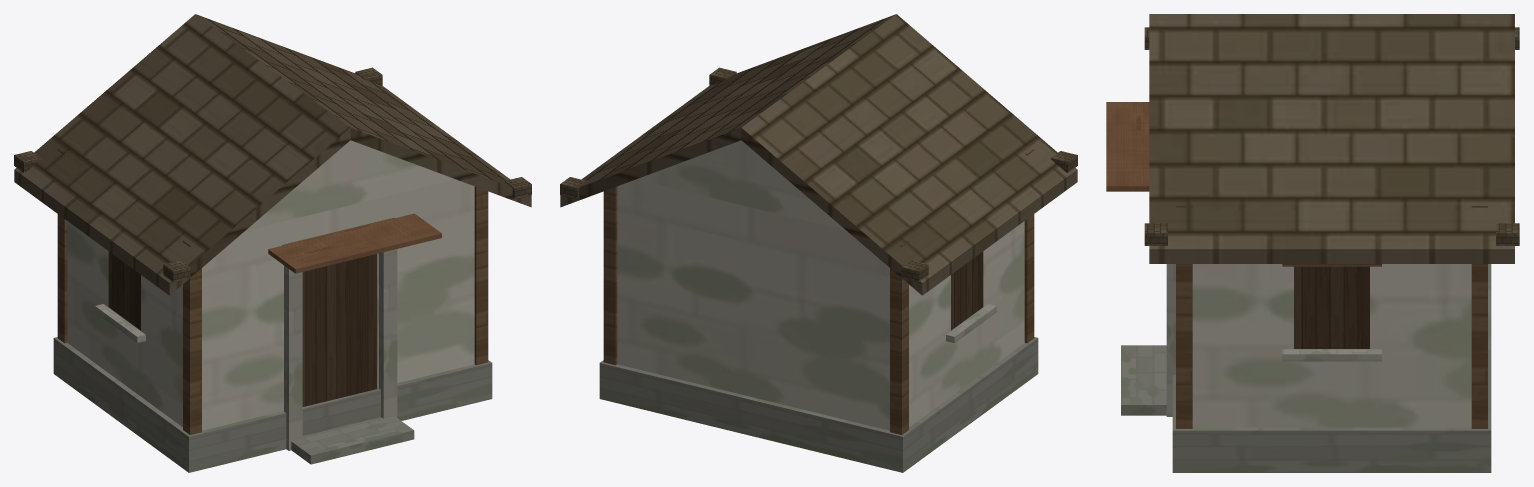
Rendered from ae_forest_stone_small_booth_lod0.glb.
3 views of the same model, side by side, from view 1: azimuth 30°, elevation 25°; view 2: azimuth 150°, elevation 25°; view 3: azimuth 270°, elevation 25° (orthographic). The views are drawn at different scales.
Parts seen in each view (by area): view 1: ae_forest_stone_small_booth_lod0; view 2: ae_forest_stone_small_booth_lod0; view 3: ae_forest_stone_small_booth_lod0.
Part boxes in pixels (x1,y1,x2,y2): ae_forest_stone_small_booth_lod0: (14,14,531,472); ae_forest_stone_small_booth_lod0: (560,14,1077,472); ae_forest_stone_small_booth_lod0: (1106,14,1519,472).
Bounding box in the file's own units: 4.2 × 3.5 × 3.53.
Materials: 1 (1 with a texture image).
